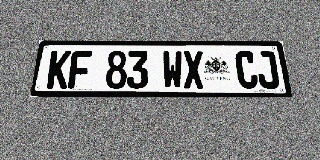3: (127, 51, 148, 89)
8: (105, 51, 128, 89)
C: (235, 51, 259, 89)
F: (68, 51, 92, 89)
J: (255, 51, 280, 89)
K: (46, 51, 71, 89)
W: (162, 51, 183, 89)
X: (183, 51, 204, 89)
